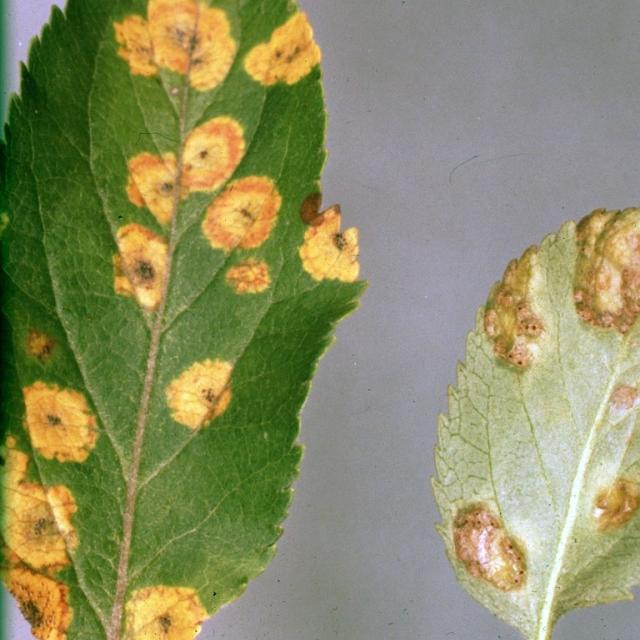Gymnosporangium_Rusts: (1, 1, 368, 637), (425, 104, 640, 640)
